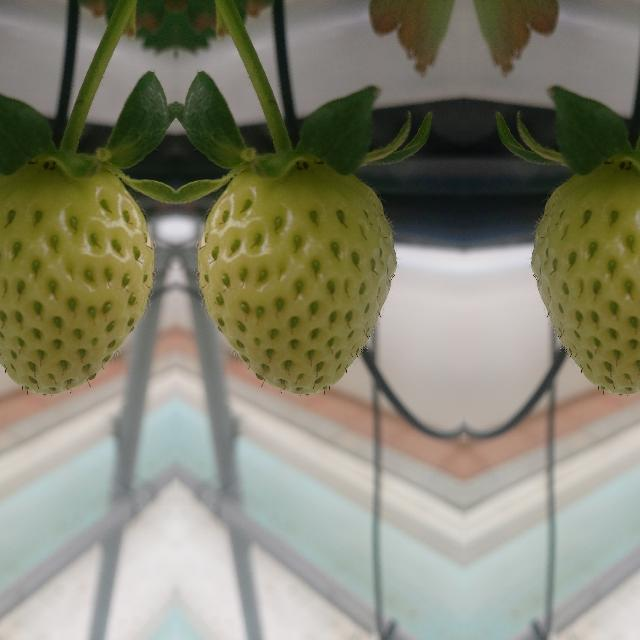Health_25: (197, 163, 396, 395), (0, 163, 153, 395), (530, 163, 640, 395)
